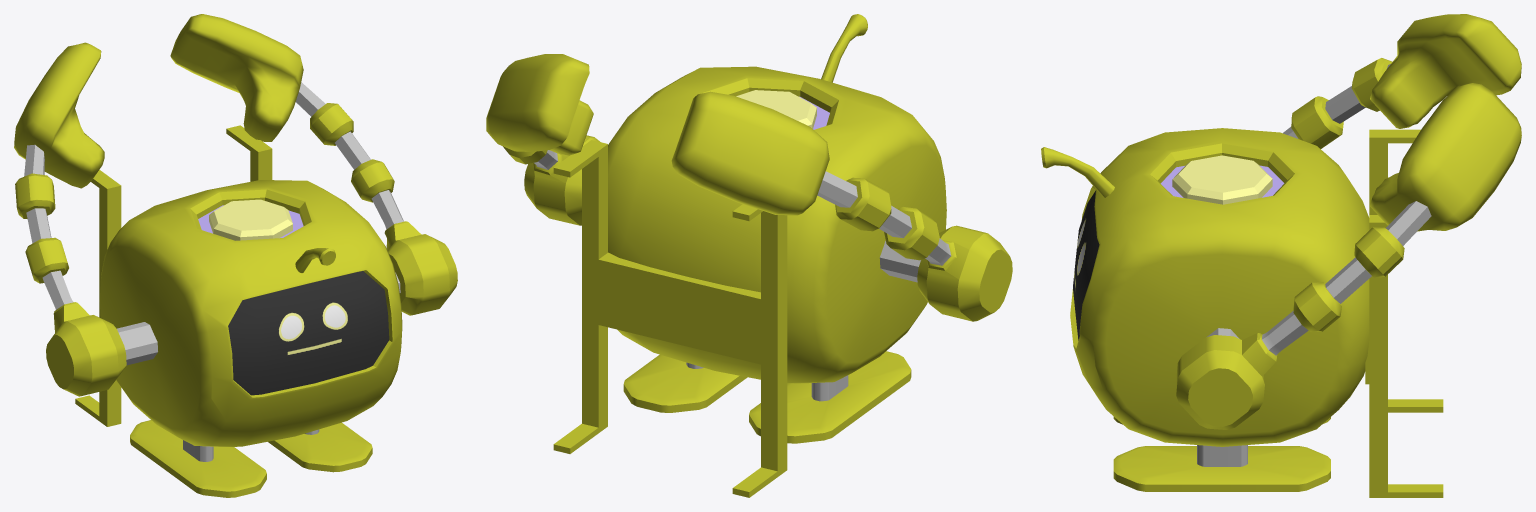
The model's file is Chara_03Y.fbx.
The picture shows the model from 3 angles, left to right: view 1: azimuth 30°, elevation 25°; view 2: azimuth 150°, elevation 25°; view 3: azimuth 270°, elevation 25°; orthographic projection. The views are drawn at different scales.
Visible parts, largest first — view 1: Face, pCube48 (×2), L_Hand, R_Hand, R_Leg, L_Leg, pCube51, pCube47, pCube50, Horn; view 2: Face, pCube48 (×2), R_Hand, pCube52, L_Hand, pCube51, pCube50, R_Leg, L_Leg, Horn, pCube47; view 3: Face, pCube48 (×2), L_Hand, R_Hand, L_Leg, pCube50, pCube51, Horn.
Part boxes in pixels (box(x1,y1,x2,y2)): Face: box(99, 180, 402, 446); pCube48 (×2): box(15, 82, 457, 396); L_Hand: box(170, 14, 303, 141); R_Hand: box(14, 42, 104, 188); R_Leg: box(130, 420, 266, 497); L_Leg: box(268, 422, 372, 472); pCube51: box(75, 170, 121, 426); pCube47: box(117, 322, 157, 365); pCube50: box(226, 125, 272, 181); Horn: box(295, 248, 335, 272); Face: box(608, 66, 946, 383); pCube48 (×2): box(503, 135, 1012, 321); R_Hand: box(671, 91, 829, 215); pCube52: box(598, 252, 760, 364); L_Hand: box(486, 54, 593, 155); pCube51: box(732, 204, 787, 497); pCube50: box(553, 140, 607, 453); R_Leg: box(749, 351, 911, 443); L_Leg: box(623, 354, 747, 412); Horn: box(821, 14, 867, 82); pCube47: box(879, 241, 920, 282); Face: box(1070, 128, 1369, 446); pCube48 (×2): box(1176, 58, 1431, 429); L_Hand: box(1370, 83, 1521, 231); R_Hand: box(1370, 14, 1521, 128); L_Leg: box(1113, 445, 1330, 491); pCube50: box(1369, 215, 1443, 497); pCube51: box(1369, 129, 1443, 412); Horn: box(1041, 147, 1114, 197).
Bounding box in the file's own units: 92.79 × 79.55 × 87.07.
